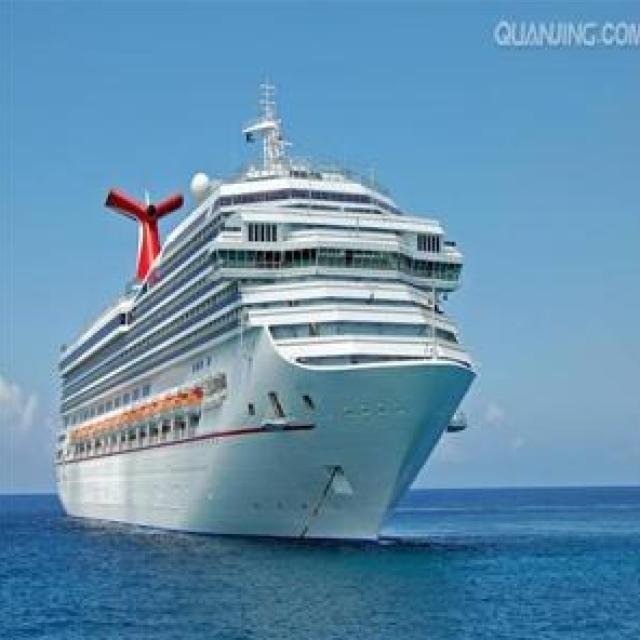passenger ship: (52, 142, 480, 544)
